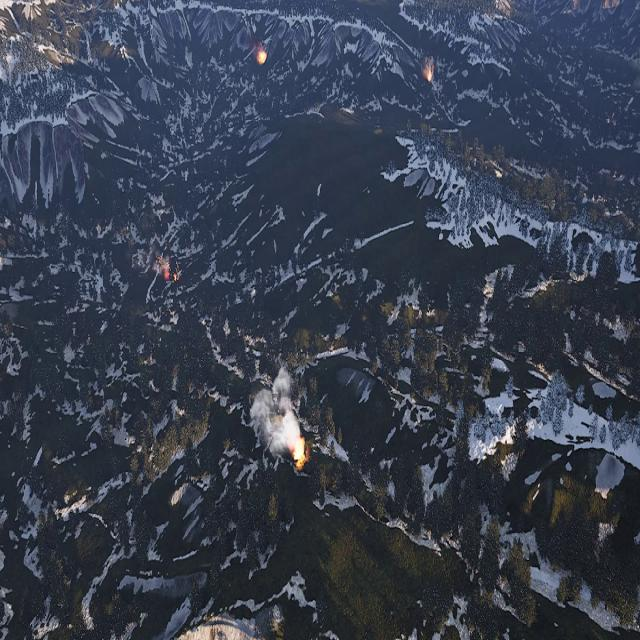fire: (290, 437, 306, 468), (163, 266, 180, 285), (424, 66, 434, 82), (257, 51, 266, 65)
smoke: (249, 366, 303, 456)
